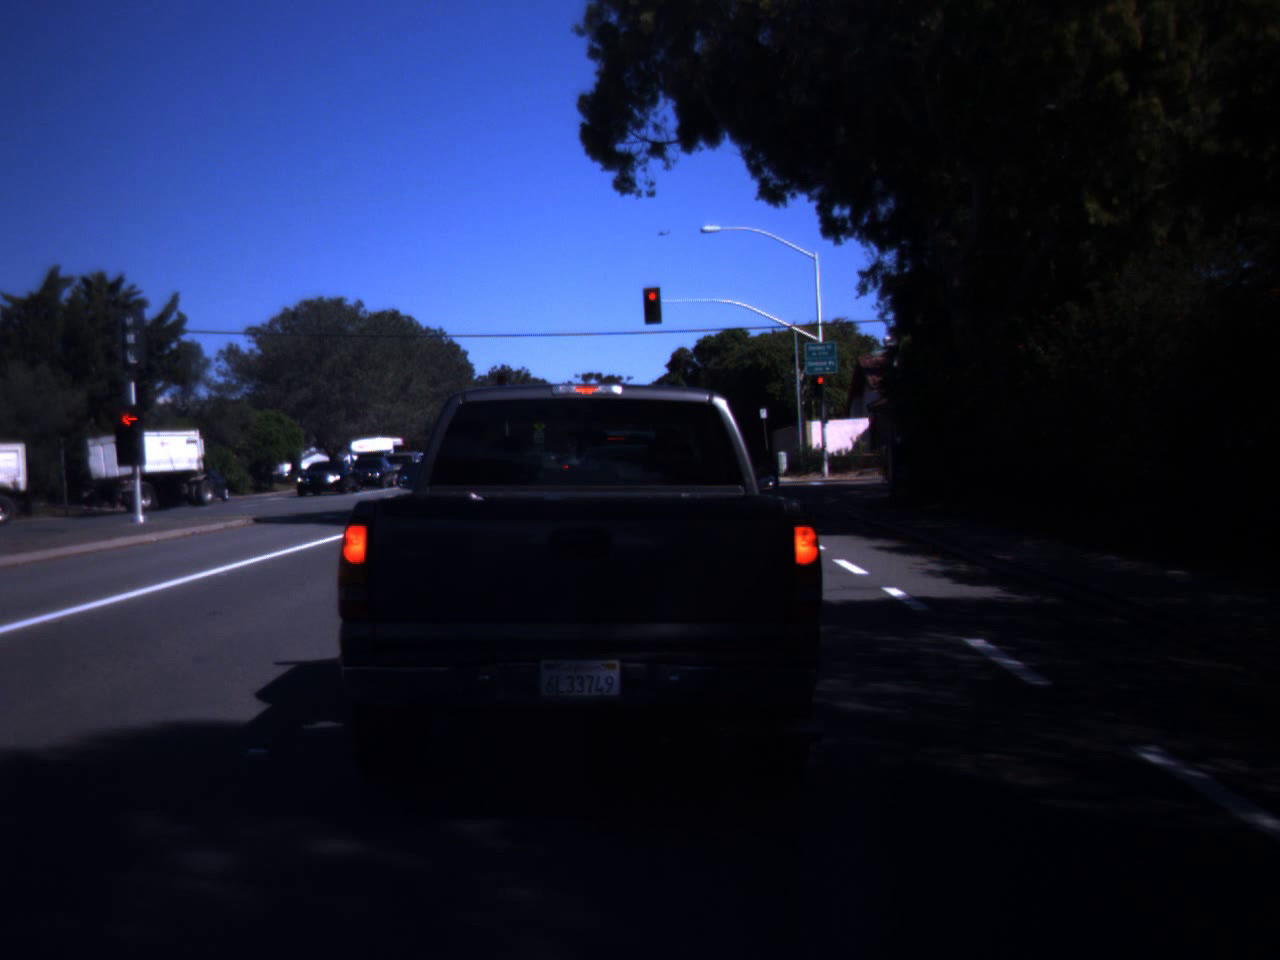stop: (112, 400, 157, 467), (645, 291, 660, 313), (814, 376, 826, 394)
